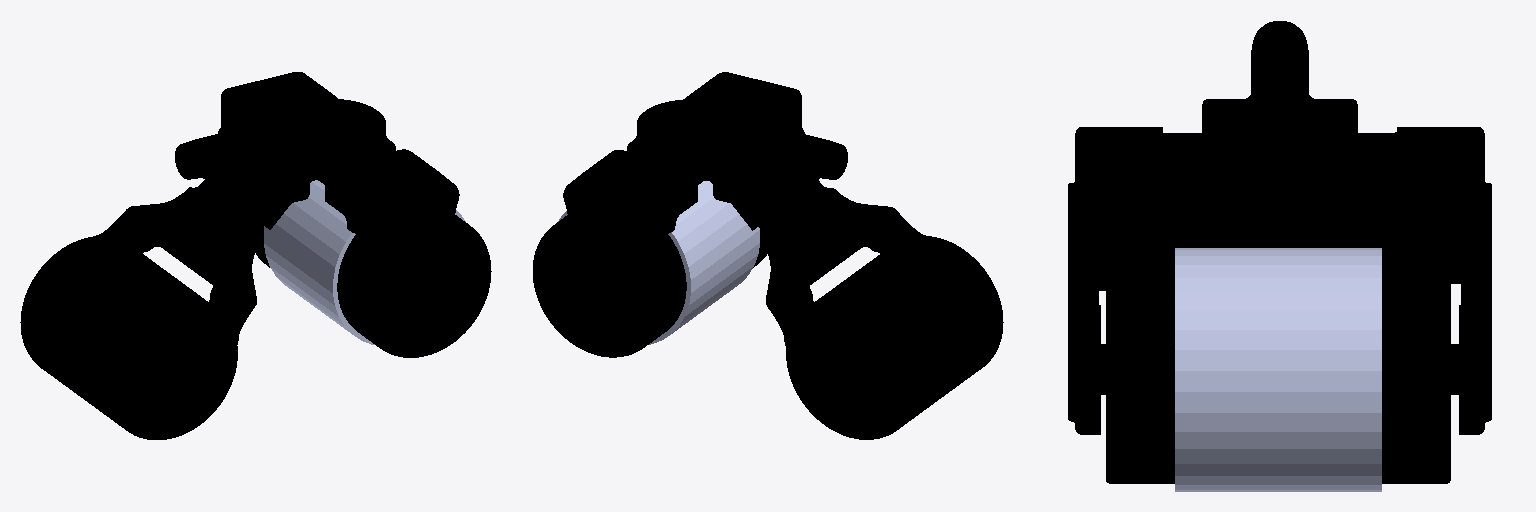
URDF robot description (roller_handheld):
<?xml version="1.0" encoding="utf-8"?>
<!-- This URDF was automatically created by SolidWorks to URDF Exporter! Originally created by Stephen Brawner (brawner@gmail.com) 
     Commit Version: 1.6.0-4-g7f85cfe  Build Version: 1.6.7995.38578
     For more information, please see http://wiki.ros.org/sw_urdf_exporter -->
<robot
  name="roller_handheld">
  <link
    name="roller_base_link">
    <inertial>
      <origin
        xyz="-0.062649 -0.0001411 0.040838"
        rpy="0 0 0" />
      <mass
        value="0.4744" />
      <inertia
        ixx="0.00063273"
        ixy="-6.9634E-06"
        ixz="-3.566E-05"
        iyy="0.00049112"
        iyz="-6.1205E-06"
        izz="0.00067819" />
    </inertial>
    <visual>
      <origin
        xyz="0 0 0"
        rpy="0 0 0" />
      <geometry>
        <mesh
          filename="package://roller_handheld/meshes/base_link.STL" />
      </geometry>
      <material
        name="black">
        <color
          rgba="0 0 0 1" />
      </material>
    </visual>
    <collision>
      <origin
        xyz="0 0 0"
        rpy="0 0 0" />
      <geometry>
        <mesh
          filename="package://roller_handheld/meshes/base_link.STL" />
      </geometry>
    </collision>
  </link>
  <link
    name="link_roller">
    <inertial>
      <origin
        xyz="0 -1.4706E-05 -1.0669E-06"
        rpy="0 0 0" />
      <mass
        value="0.79363" />
      <inertia
        ixx="0.0015784"
        ixy="-1.3203E-19"
        ixz="9.0573E-24"
        iyy="0.00078405"
        iyz="-4.8625E-09"
        izz="0.0015784" />
    </inertial>
    <visual>
      <origin
        xyz="0 0 0"
        rpy="0 0 0" />
      <geometry>
        <mesh
          filename="package://roller_handheld/meshes/link_roller.STL" />
      </geometry>
      <material
        name="black">
        <color
          rgba="0 0 0 1" />
      </material>
    </visual>
    <collision>
      <origin
        xyz="0 0 0"
        rpy="0 0 0" />
      <geometry>
        <mesh
          filename="package://roller_handheld/meshes/link_roller.STL" />
      </geometry>
    </collision>
  </link>
  <joint
    name="joint_roller"
    type="continuous">
    <origin
      xyz="0 0 0"
      rpy="0 0 0" />
    <parent
      link="roller_base_link" />
    <child
      link="link_roller" />
    <axis
      xyz="0 1 0" />
  </joint>
  <link
    name="link_elastomer">
    <inertial>
      <origin
        xyz="-4.4409E-16 0 1.1102E-16"
        rpy="0 0 0" />
      <mass
        value="0.068612" />
      <inertia
        ixx="0.00010769"
        ixy="-3.2886E-21"
        ixz="-1.567E-20"
        iyy="0.0001422"
        iyz="1.1908E-20"
        izz="0.00010769" />
    </inertial>
    <visual>
      <origin
        xyz="0 0 0"
        rpy="0 0 0" />
      <geometry>
        <mesh
          filename="package://roller_handheld/meshes/link_elastomer.STL" />
      </geometry>
      <material
        name="grey">
        <color
          rgba="0.79216 0.81961 0.93333 1" />
      </material>
    </visual>
    <collision>
      <origin
        xyz="0 0 0"
        rpy="0 0 0" />
      <geometry>
        <mesh
          filename="package://roller_handheld/meshes/link_elastomer.STL" />
      </geometry>
    </collision>
  </link>
  <joint
    name="joint_elastomer"
    type="continuous">
    <origin
      xyz="0 0 0"
      rpy="0 0 0" />
    <parent
      link="link_roller" />
    <child
      link="link_elastomer" />
    <axis
      xyz="0 1 0" />
    <mimic
      joint="joint_roller"
      multiplier="1"
      offset="0" />
  </joint>
  <link
    name="link_support">
    <inertial>
      <origin
        xyz="0 0 0"
        rpy="0 0 0" />
      <mass
        value="0" />
      <inertia
        ixx="0"
        ixy="0"
        ixz="0"
        iyy="0"
        iyz="0"
        izz="0" />
    </inertial>
    <visual>
      <origin
        xyz="0 0 0"
        rpy="0 0 0" />
      <geometry>
        <mesh
          filename="package://roller_handheld/meshes/link_support.STL" />
      </geometry>
      <material
        name="black">
        <color
          rgba="0 0 0 1" />
      </material>
    </visual>
    <collision>
      <origin
        xyz="0 0 0"
        rpy="0 0 0" />
      <geometry>
        <mesh
          filename="package://roller_handheld/meshes/link_support.STL" />
      </geometry>
    </collision>
  </link>
  <joint
    name="joint_support"
    type="continuous">
    <origin
      xyz="-0.15952 -0.003 -0.021773"
      rpy="0 0 0" />
    <parent
      link="roller_base_link" />
    <child
      link="link_support" />
    <axis
      xyz="0 1 0" />
  </joint>
</robot>

--- Facts derived from the render (not from the file) ---
3 views of the same robot in one strip: view 1: azimuth 30°, elevation 25°; view 2: azimuth 150°, elevation 25°; view 3: azimuth 270°, elevation 25° (orthographic).
Robot: roller_handheld — 4 links, 3 joints (3 continuous); root link roller_base_link; default pose: all joints at 0.
Visible links, largest first — view 1: roller_base_link, link_support, link_roller, link_elastomer; view 2: roller_base_link, link_support, link_roller, link_elastomer; view 3: roller_base_link, link_elastomer, link_roller, link_support.
Boxes of the visible links, box(x1,y1,x2,y2) form: roller_base_link: box(93, 72, 472, 413); link_support: box(20, 236, 237, 439); link_roller: box(256, 215, 491, 357); link_elastomer: box(264, 180, 465, 344); roller_base_link: box(550, 72, 925, 404); link_support: box(786, 236, 1003, 439); link_roller: box(533, 215, 766, 357); link_elastomer: box(558, 181, 759, 344); roller_base_link: box(1068, 21, 1491, 434); link_elastomer: box(1175, 248, 1381, 491); link_roller: box(1101, 256, 1458, 483); link_support: box(1149, 132, 1407, 255).
Bounding box of the posed robot: 0.2504 × 0.164 × 0.1585 m (x, y, z).
Meshes: 4 distinct files referenced, 4 mesh visuals loaded (4 binary STL).
